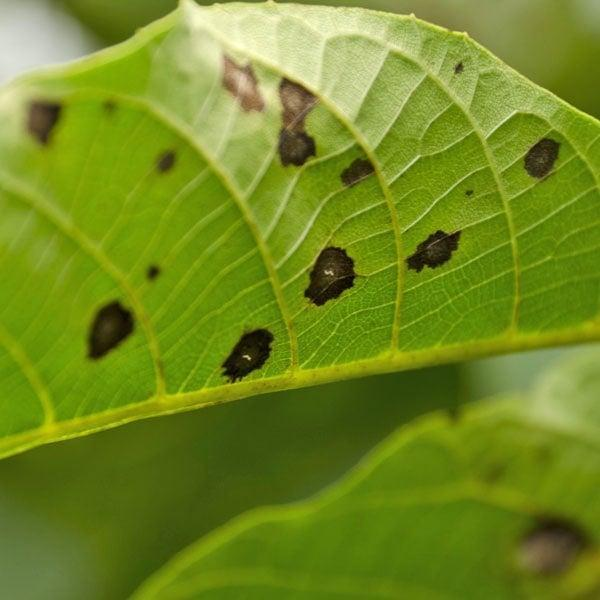black-spot: (188, 177, 485, 363)
